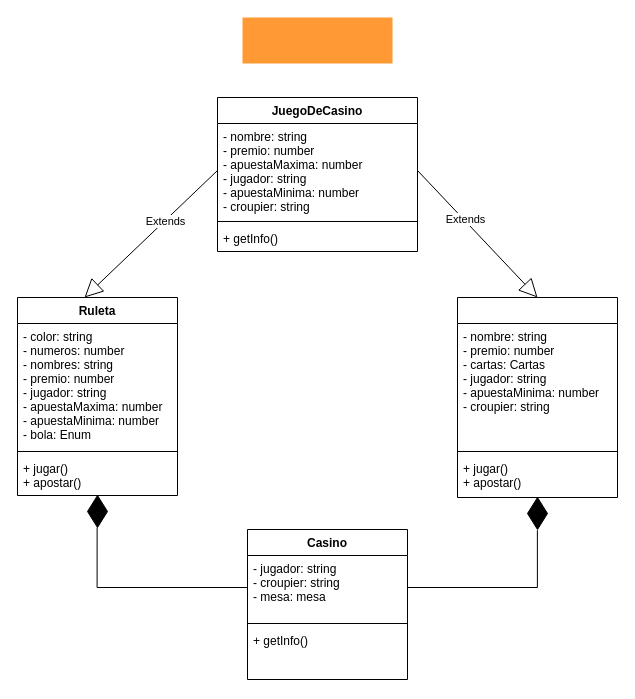
This 635x699 diagram has some shape labels left out. The box of each missing label's shape, as (x1, y1, x2, y2) in pixels:
BlackJack: (456, 296, 618, 498)
DIAGRAMA CASINO: (242, 17, 392, 63)
